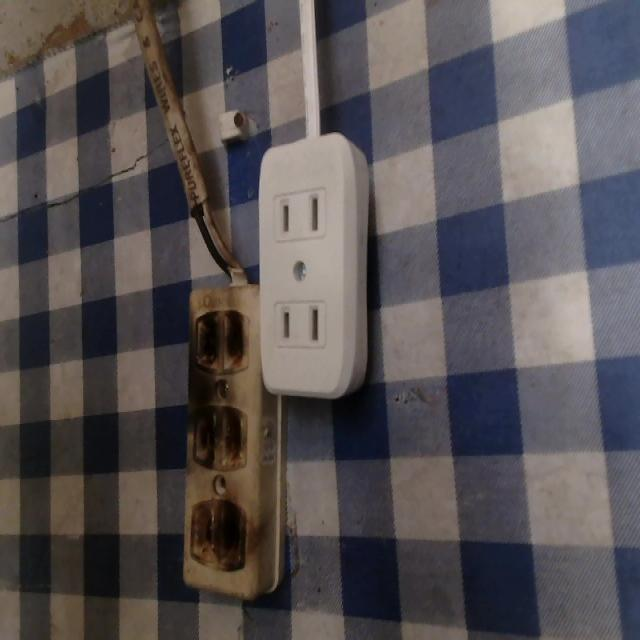-: (188, 493, 247, 571), (188, 395, 249, 469), (192, 304, 252, 379)
